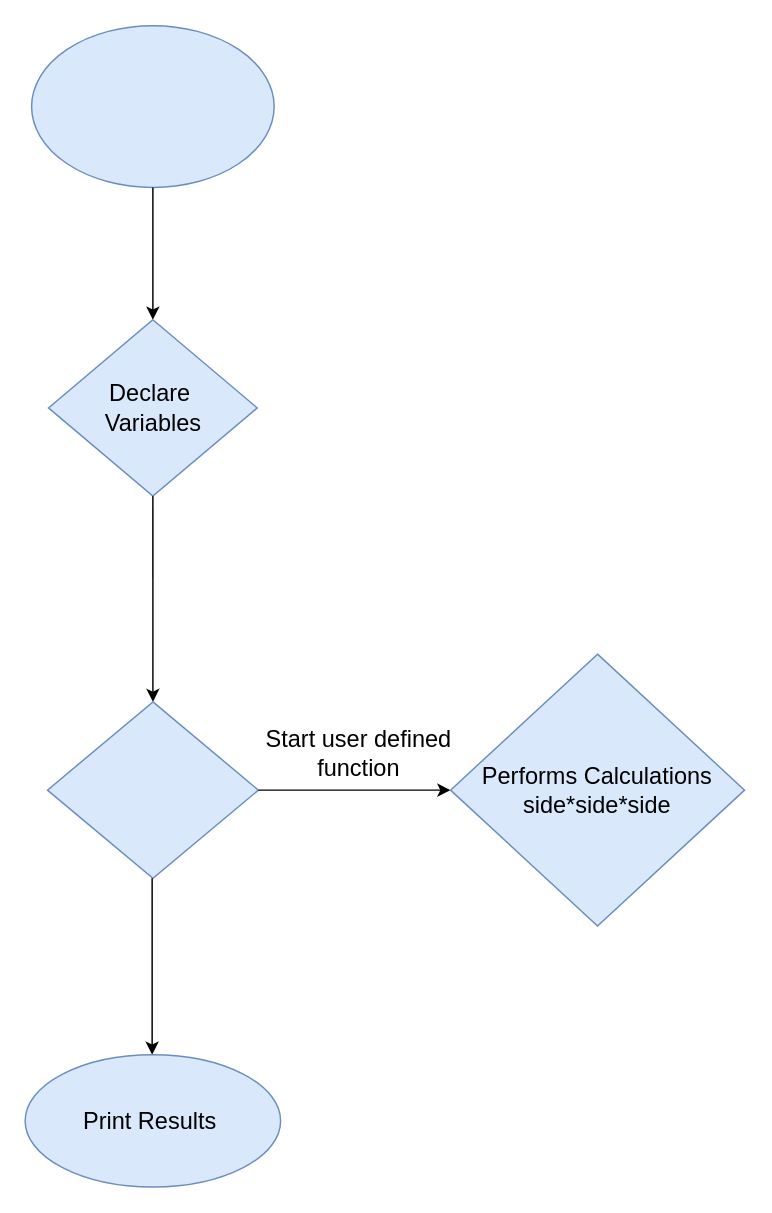
Image size: 772x1213. Some labels were removed from this diagram. The shapes that lost their labels are listed below. From the top down, each one's centre as x and y in pixels, then its label:
At [152,105]: "Start Case: 3 Area of a Triangle".
At [152,789]: "Reads in input".
